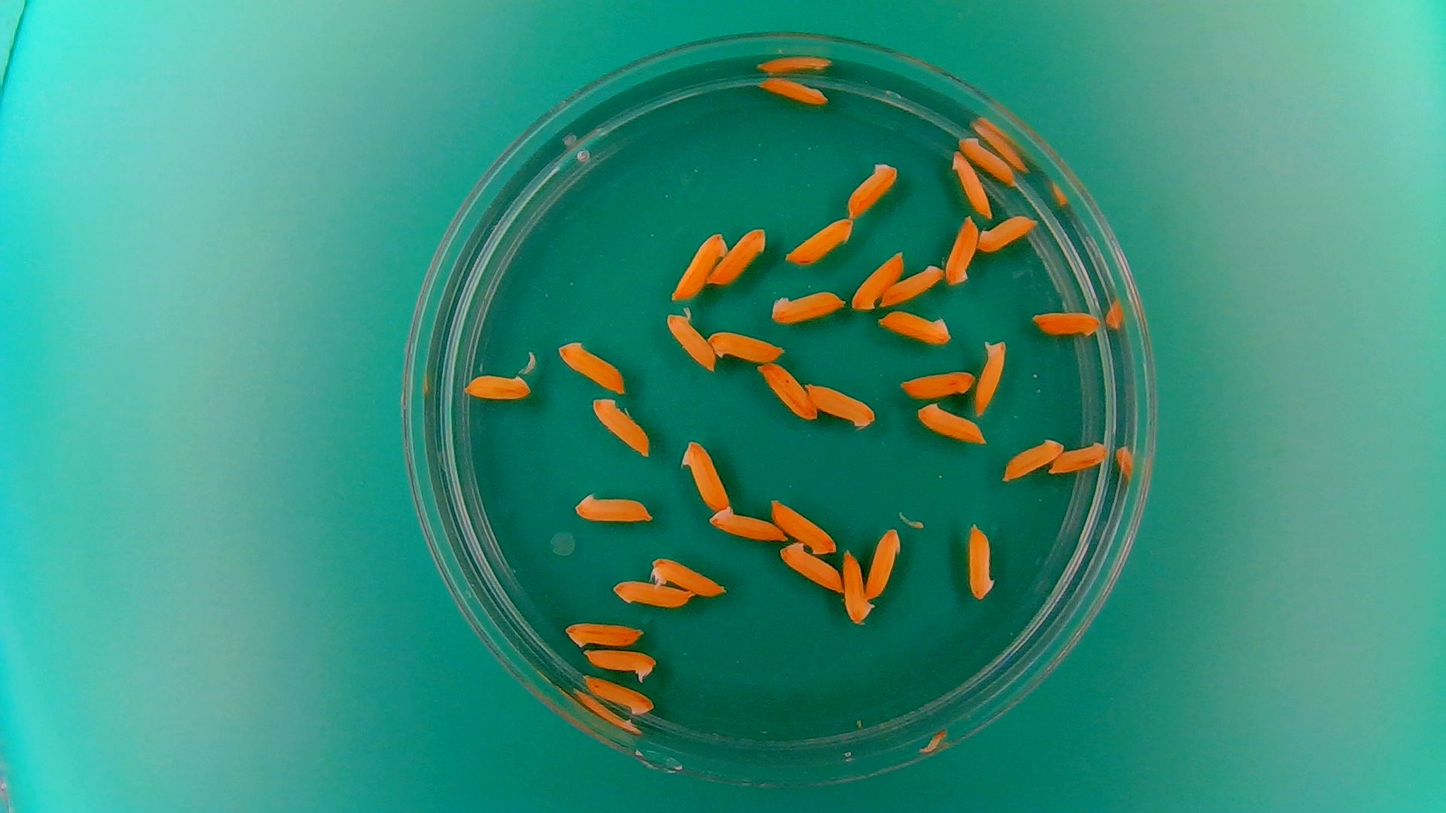no: (554, 336, 627, 394), (769, 495, 839, 555), (670, 229, 727, 302), (678, 436, 731, 513), (588, 394, 651, 458), (706, 224, 768, 286), (757, 360, 819, 422), (804, 379, 879, 430), (777, 539, 845, 593), (662, 306, 716, 373), (783, 215, 853, 265), (999, 433, 1066, 485), (849, 249, 905, 311), (572, 487, 657, 526), (844, 158, 899, 218), (581, 674, 657, 717), (956, 133, 1017, 186), (915, 399, 985, 445), (705, 326, 789, 364), (706, 504, 787, 543), (879, 262, 946, 309), (767, 287, 847, 326), (950, 148, 993, 219), (561, 617, 648, 652), (878, 308, 953, 347), (864, 525, 903, 600), (608, 577, 694, 610), (965, 519, 998, 603), (840, 546, 874, 626), (943, 213, 980, 286), (898, 366, 978, 399), (976, 212, 1039, 252), (1029, 306, 1103, 340), (1046, 440, 1108, 477), (758, 75, 831, 106), (461, 374, 534, 400)
yes: (649, 553, 728, 598), (972, 335, 1008, 416), (581, 646, 656, 683)
